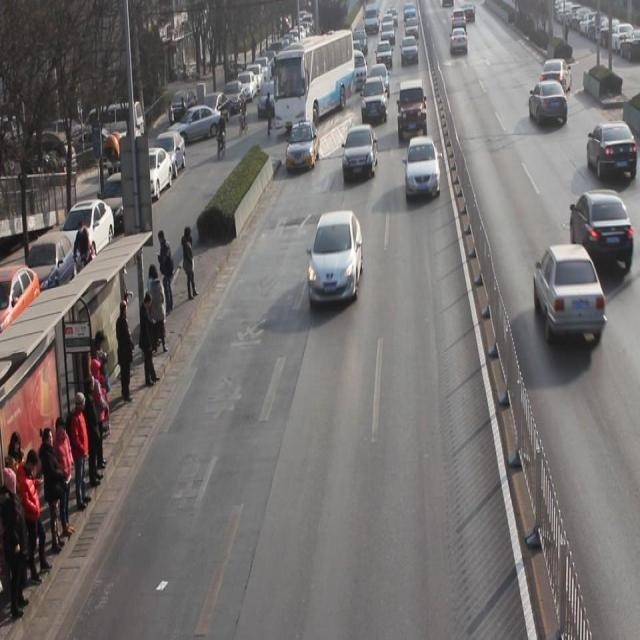car: (535, 240, 609, 345), (307, 210, 363, 306), (571, 186, 632, 271), (588, 120, 640, 181), (406, 134, 442, 199), (397, 78, 428, 142), (342, 124, 378, 179), (528, 79, 568, 126), (286, 121, 321, 169), (361, 74, 388, 124), (541, 55, 573, 96), (401, 36, 419, 65), (376, 39, 393, 68)
van: (273, 32, 354, 126)
